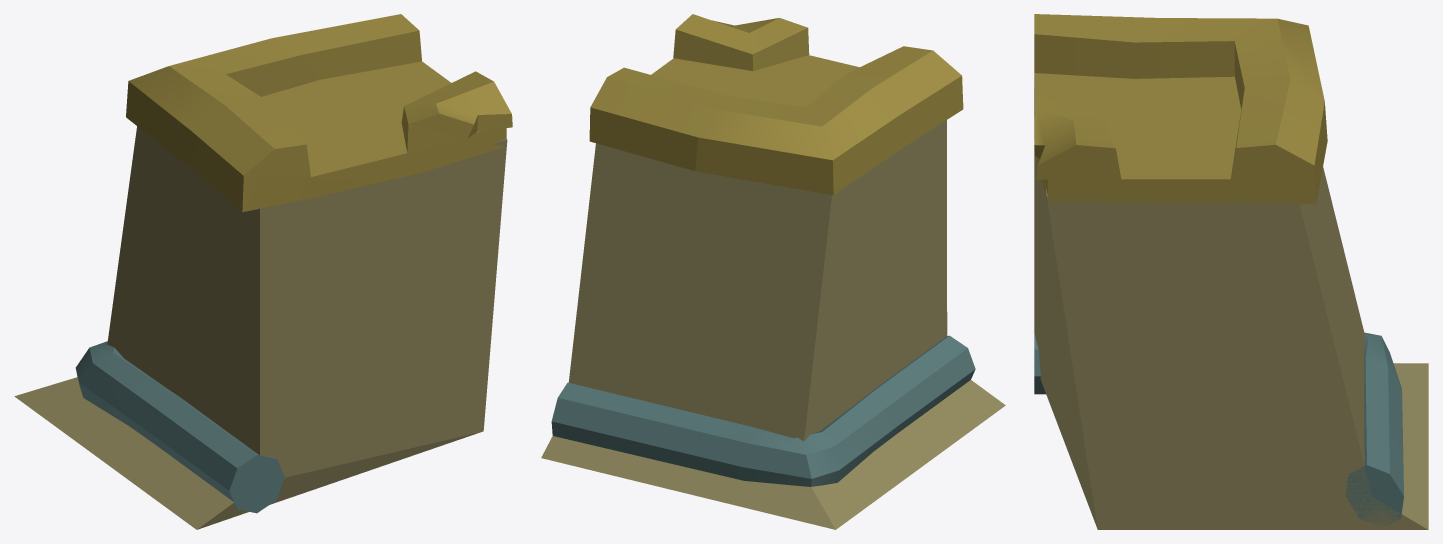
The model's file is Int_8_Corner_Rect_D_R.fbx.
3 renders of one model, left to right at view 1: azimuth 30°, elevation 25°; view 2: azimuth 150°, elevation 25°; view 3: azimuth 270°, elevation 25°, orthographic. The views are drawn at different scales.
Visible parts, largest first — view 1: Int_8_Corner_Rect_D_R; view 2: Int_8_Corner_Rect_D_R; view 3: Int_8_Corner_Rect_D_R.
Boxes of the visible parts, <box> form: Int_8_Corner_Rect_D_R: <box>14,14,512,529</box>; Int_8_Corner_Rect_D_R: <box>541,14,1005,529</box>; Int_8_Corner_Rect_D_R: <box>1034,14,1428,529</box>.
Bounding box in the file's own units: 1 × 1.09 × 1.
